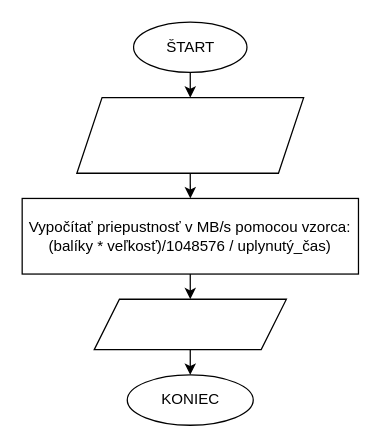
Image size: 381x447. Some labels were removed from this diagram. Here are the shapes that lost their labels. From the top down, the box of each, then its label:
(76, 96, 304, 173): Získať na vstupe počet úspešných balíkov, veľkosť bufferov a časové okno
(93, 298, 286, 350): Výsledok vypísať do konzoly
